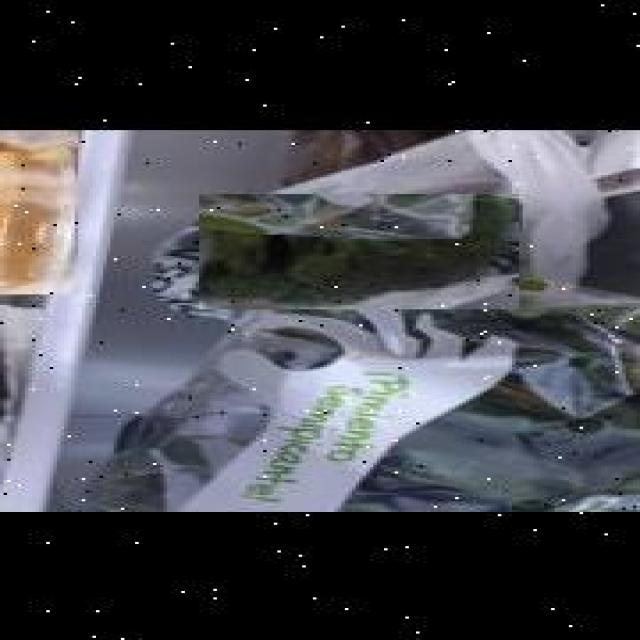broccoli: (199, 192, 519, 307)
humus: (0, 128, 146, 292)
pineapple: (0, 297, 107, 512)
